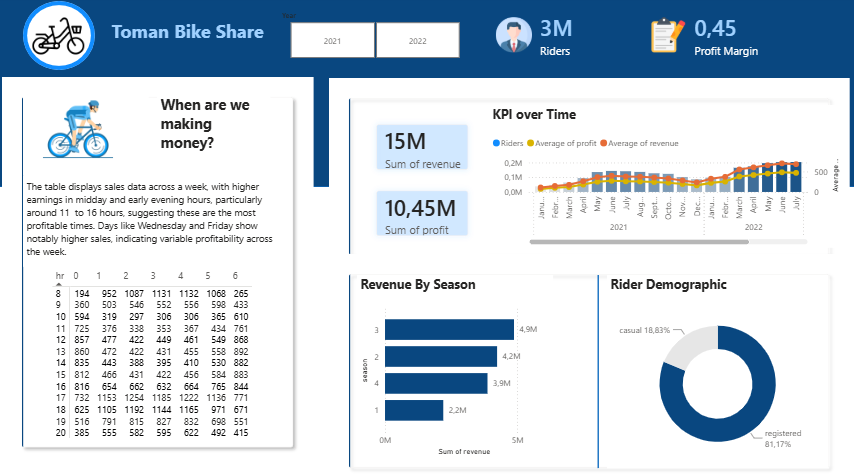

The page's visual inventory and layout, read from the dashboard file:
{"tool":"powerbi","page":{"name":"Page 1","canvas":[1280,720],"ordinal":0},"visuals":[{"type":"shape","box":[10.8,0,1270.2,279.5],"z":0},{"type":"cardVisual","fields":{"Data":["Sum(Query1.profit)"]},"box":[22.2,119,455.6,571.4],"z":1000},{"type":"cardVisual","fields":{"Data":["Sum(Query1.profit)"]},"box":[500,120.6,761.9,288.9],"z":2000},{"type":"cardVisual","fields":{"Data":["Sum(Query1.profit)"]},"box":[500,377.8,761.9,342.9],"z":3000},{"type":"cardVisual","fields":{"Data":["Sum(Query1.profit)"]},"box":[52.4,120.6,184.3,142.9],"z":4000},{"type":"pivotTable","fields":{"Values":["Avg(Query1.revenue)"],"Columns":["Query1.weekday"],"Rows":["Query1.hr"]},"box":[90.8,395.4,320,260],"z":5000},{"type":"textbox","box":[249.2,139.7,165.7,122.9],"z":6000},{"type":"textbox","box":[52.9,262.9,392.9,132.9],"z":7000},{"type":"lineClusteredColumnComboChart","title":"KPI over Time","fields":{"Category":["Query1.dteday.Variation.Date Hierarchy.Year","Query1.dteday.Variation.Date Hierarchy.Month","Query1.dteday.Variation.Date Hierarchy.Day"],"Y":["Sum(Query1.riders)"],"Y2":["Avg(Query1.profit)","Avg(Query1.revenue)"]},"box":[734.6,159.5,518,209.3],"z":8000},{"type":"clusteredBarChart","title":"Revenue By Season","fields":{"Category":["Query1.season"],"Y":["Sum(Query1.revenue)"]},"box":[541.3,407.9,287.3,268.3],"z":9000},{"type":"donutChart","title":"Rider Demographic","fields":{"Category":["Query1.rider_type"],"Y":["Sum(Query1.riders)"]},"box":[907.9,407.9,323.8,282.5],"z":10000},{"type":"shape","box":[881,407.9,27,282.5],"z":11000},{"type":"cardVisual","title":"KPI over Time","fields":{"Data":["Sum(Query1.revenue)","Sum(Query1.profit)"]},"box":[541.5,159.5,191.7,221],"z":12000},{"type":"cardVisual","fields":{"Data":["Sum(Query1.riders)","Query1.Profit Margin"]},"box":[715.6,5.9,478.5,102.4],"z":13000},{"type":"shape","box":[52.7,7.3,105.4,101],"z":13001},{"type":"image","box":[64.4,20.5,80.5,76.1],"z":13002},{"type":"textbox","box":[177.1,27.8,300,60],"z":13003},{"type":"slicer","fields":{"Values":["Query1.Year"]},"box":[418.5,17.6,297.1,80.5],"z":13004}]}

Visuals, with their boxes in screenshot pixels (x1, y1, x2, y2), scaled from the page's 1280x720 canvas onto the 854x475 screenshot:
shape: 7, 0, 853, 184
cardVisual - Sum(Query1.profit): 15, 79, 319, 455
cardVisual - Sum(Query1.profit): 334, 80, 842, 270
cardVisual - Sum(Query1.profit): 334, 249, 842, 474
cardVisual - Sum(Query1.profit): 35, 80, 158, 174
pivotTable - Avg(Query1.revenue) x Query1.weekday: 61, 261, 274, 432
textbox: 166, 92, 277, 173
textbox: 35, 173, 297, 261
"KPI over Time" lineClusteredColumnComboChart: 490, 105, 836, 243
"Revenue By Season" clusteredBarChart: 361, 269, 553, 446
"Rider Demographic" donutChart: 606, 269, 822, 455
shape: 588, 269, 606, 455
"KPI over Time" cardVisual: 361, 105, 489, 251
cardVisual - Sum(Query1.riders) x Query1.Profit Margin: 477, 4, 797, 71
shape: 35, 5, 105, 71
image: 43, 14, 97, 64
textbox: 118, 18, 318, 58
slicer - Query1.Year: 279, 12, 477, 65
